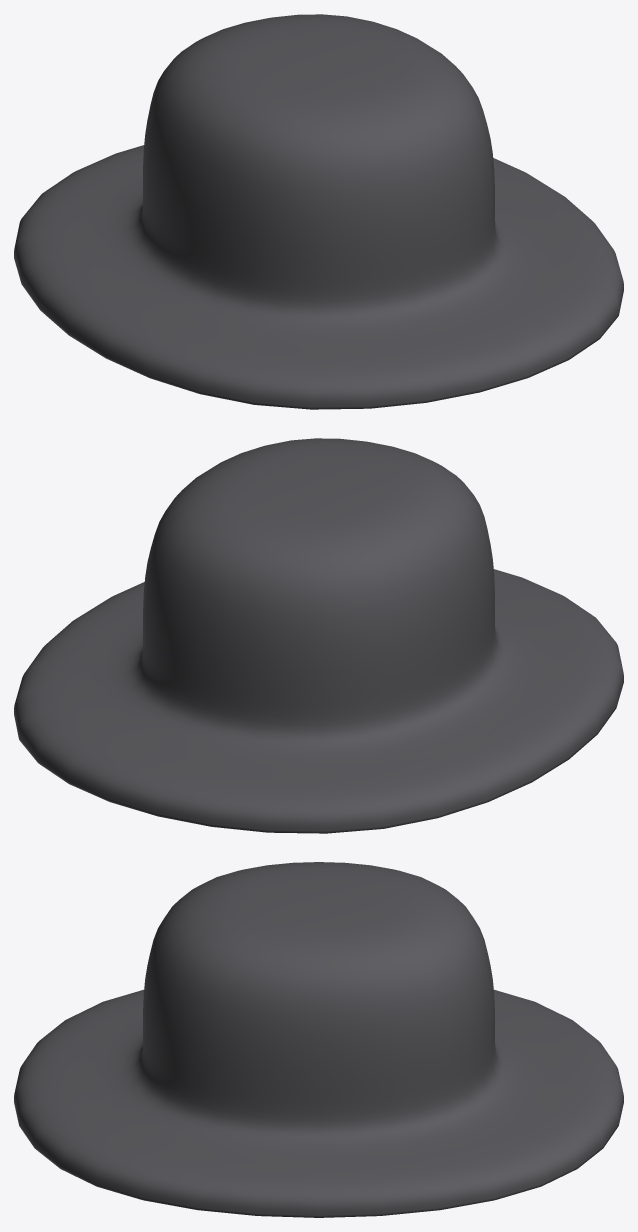
The model's file is sombrero.obj.
3 renders of one model, top to bottom at view 1: azimuth 30°, elevation 25°; view 2: azimuth 150°, elevation 25°; view 3: azimuth 270°, elevation 25°, orthographic. The views are drawn at different scales.
Parts seen in each view (by area): view 1: blsmpht1:Mesh; view 2: blsmpht1:Mesh; view 3: blsmpht1:Mesh.
Part boxes in pixels (<box>): blsmpht1:Mesh: <box>14,14,623,409</box>; blsmpht1:Mesh: <box>14,438,623,833</box>; blsmpht1:Mesh: <box>14,862,623,1217</box>.
Size of the model in its own units: 1.04 by 0.4271 by 1.16.
Materials: 1 (1 with a texture image).
